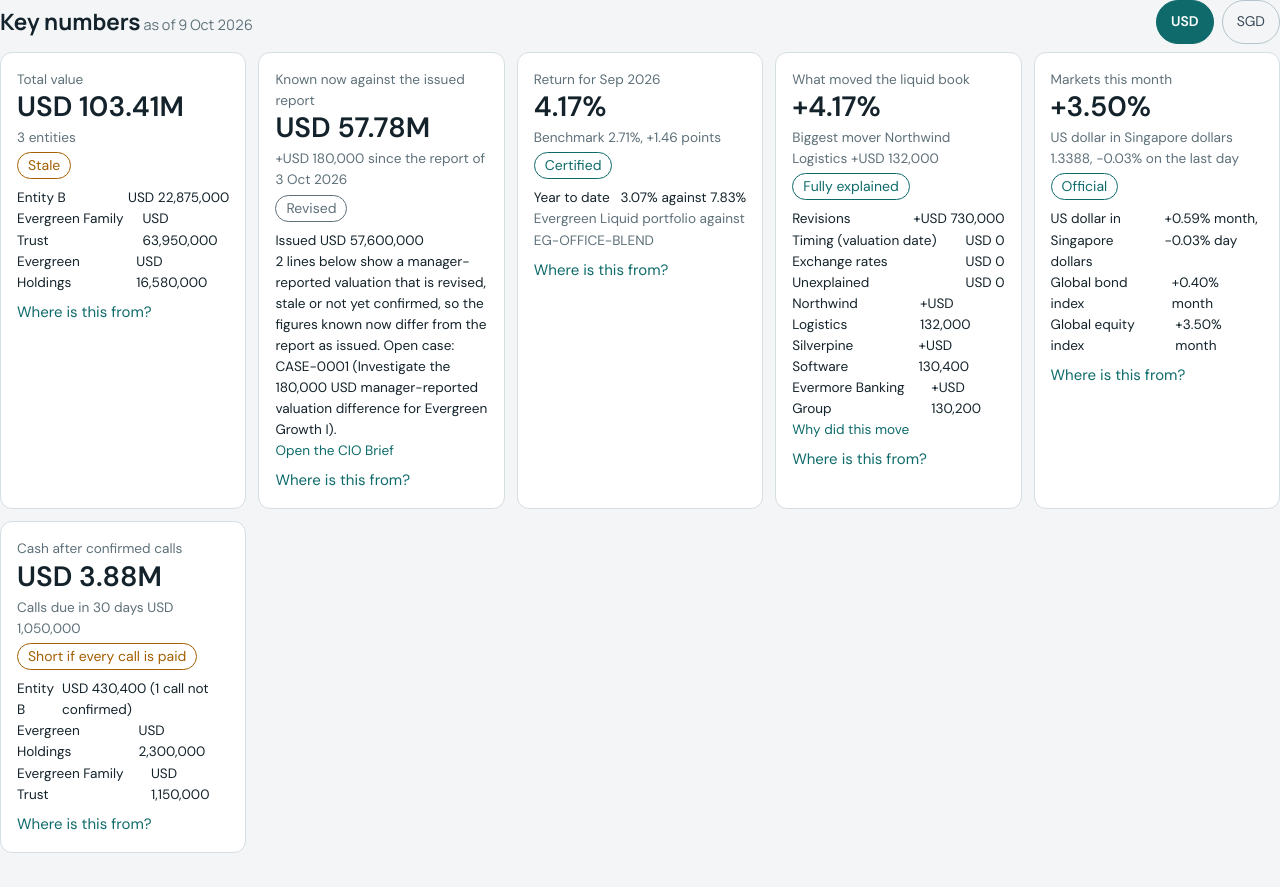
it: where is this from opens the explanation and the records behind the figure
This screenshot has width=1280, height=887.
Expected: the element "Total value" is shown, [0, 52, 246, 510]
Click the button with aria-label "Total value: Where is this from?": (84, 312) [17, 301, 152, 324]
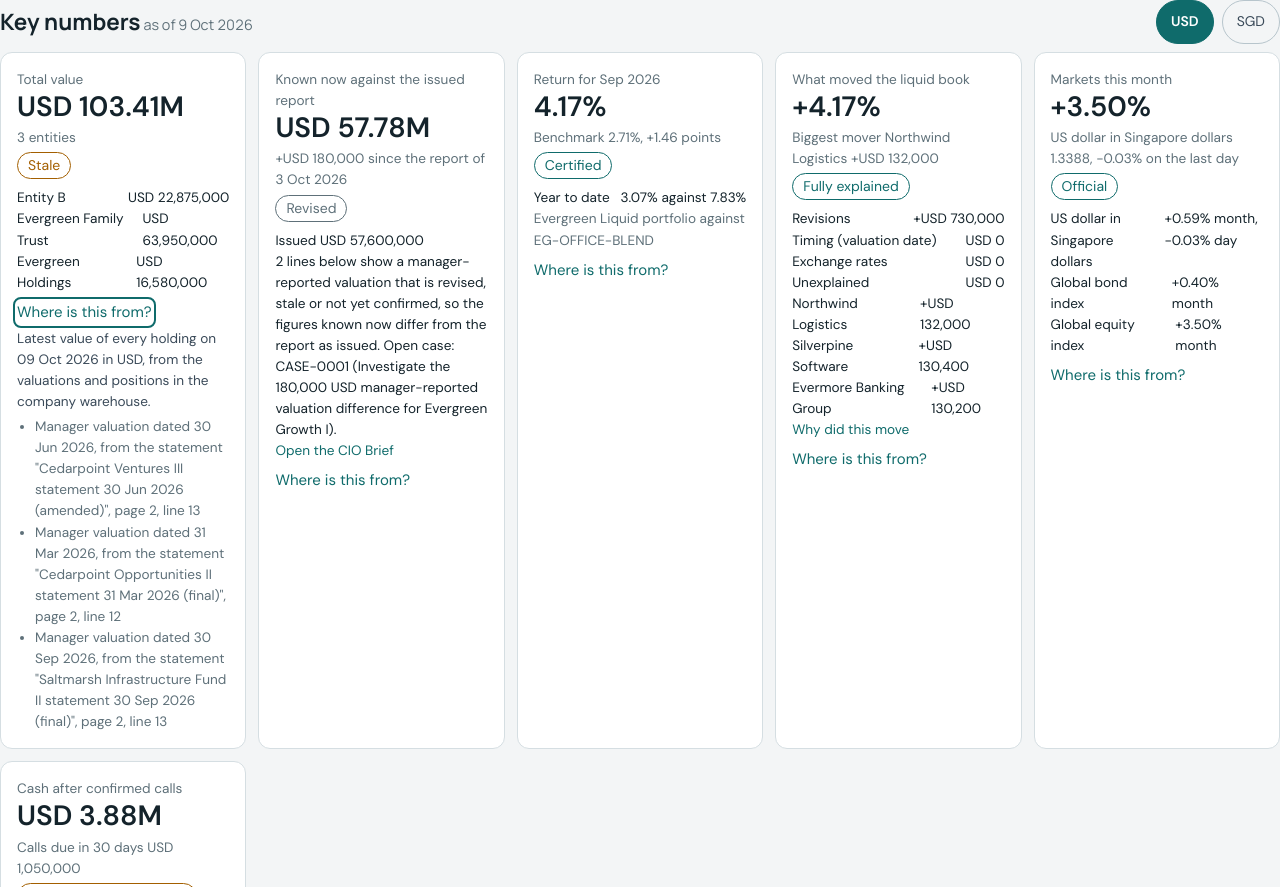
Expected: the text "Latest value of every holding on 09 Oct 2026 in USD" is shown, [17, 330, 216, 410]
